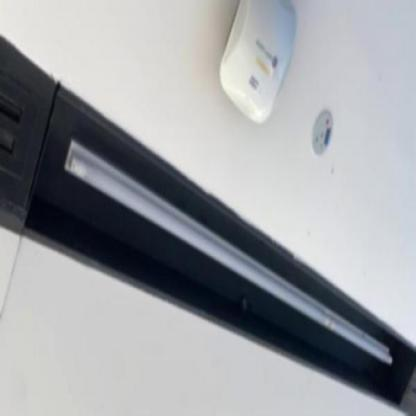light_off: (58, 119, 398, 371)
